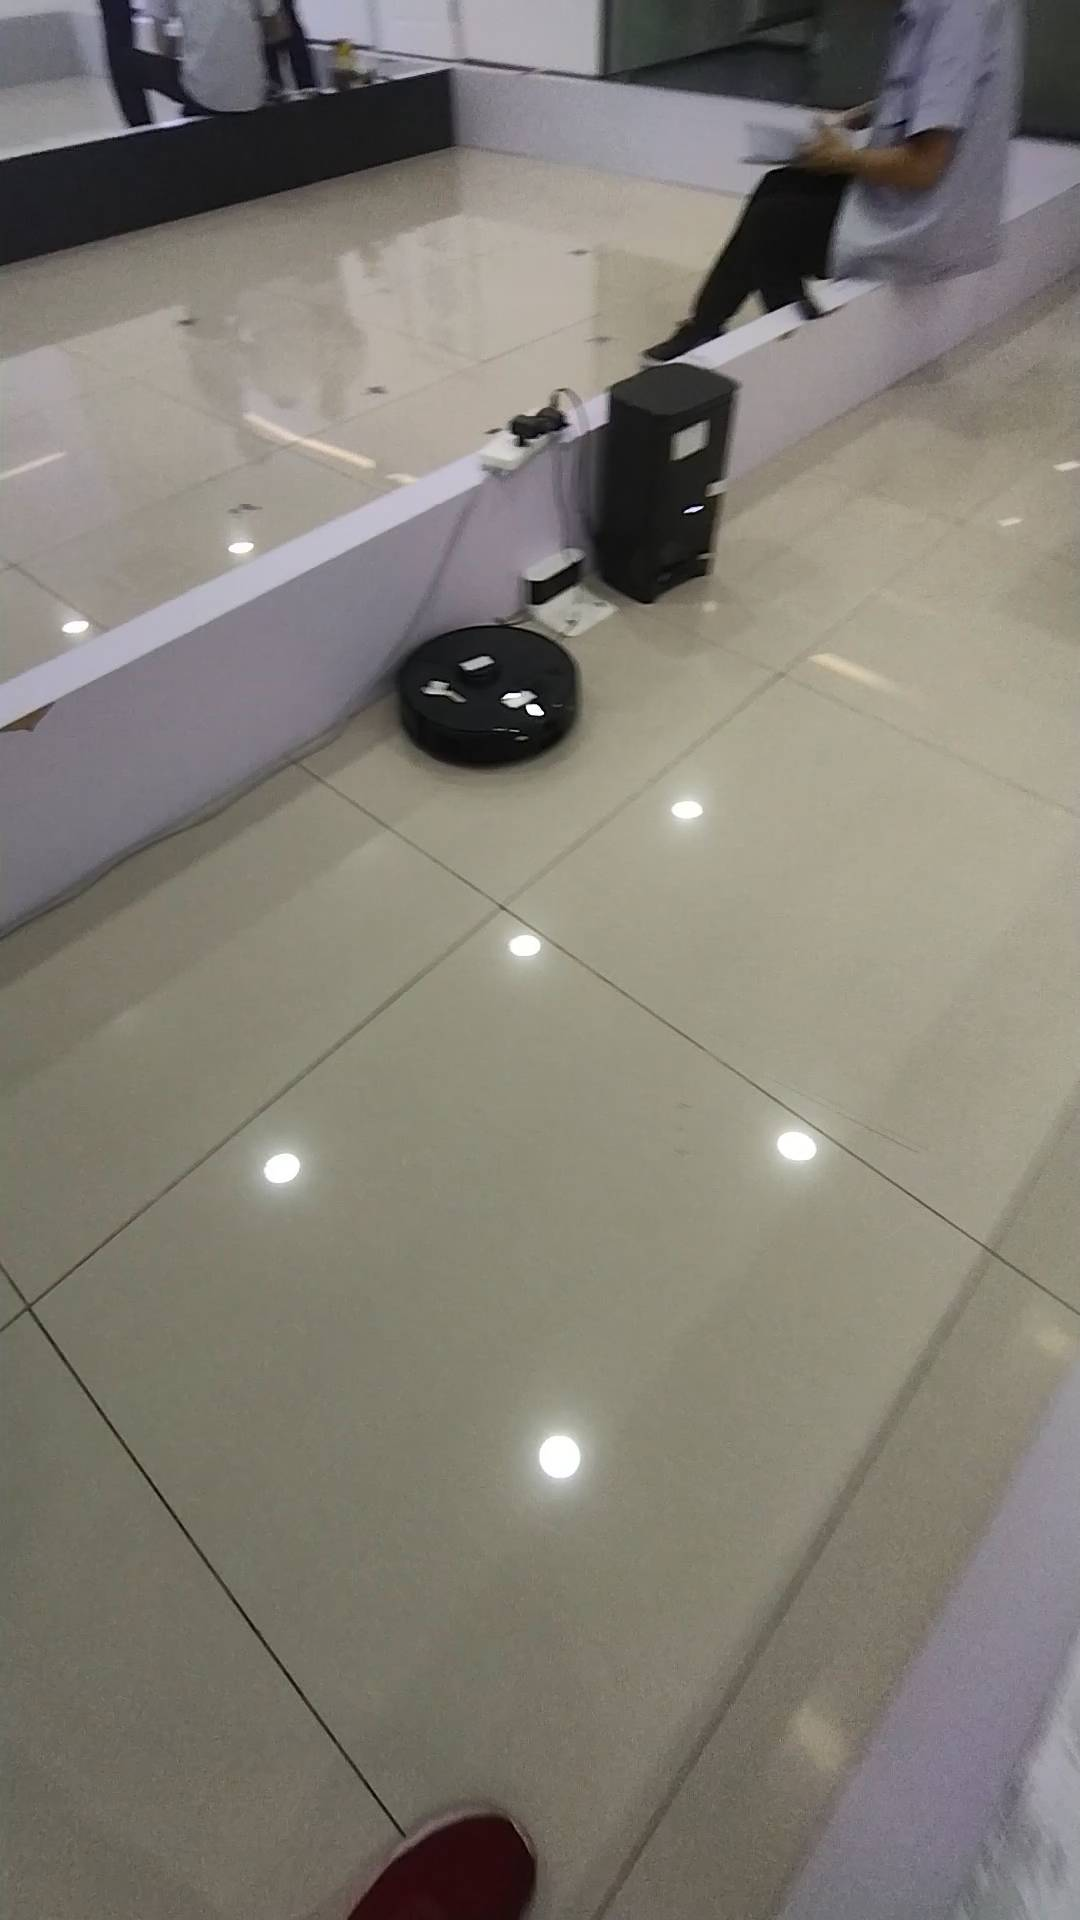dust collecting barrel: (597, 363, 753, 603)
recharge seat: (524, 545, 620, 634)
